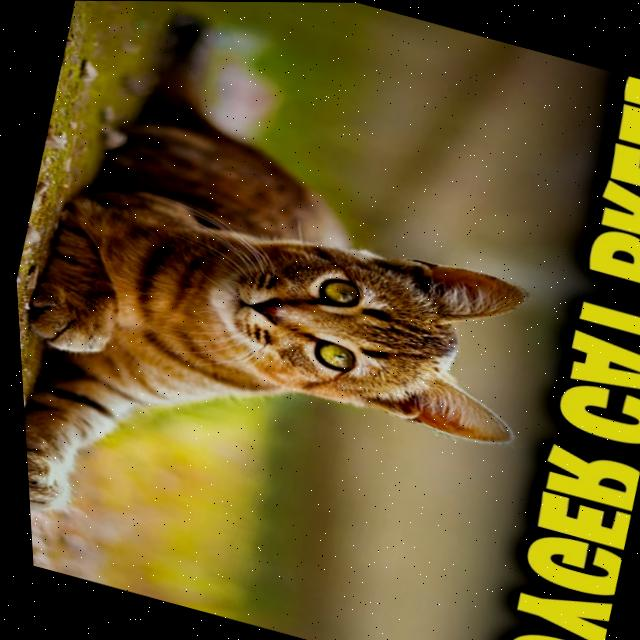Toyger: (4, 83, 581, 633)
